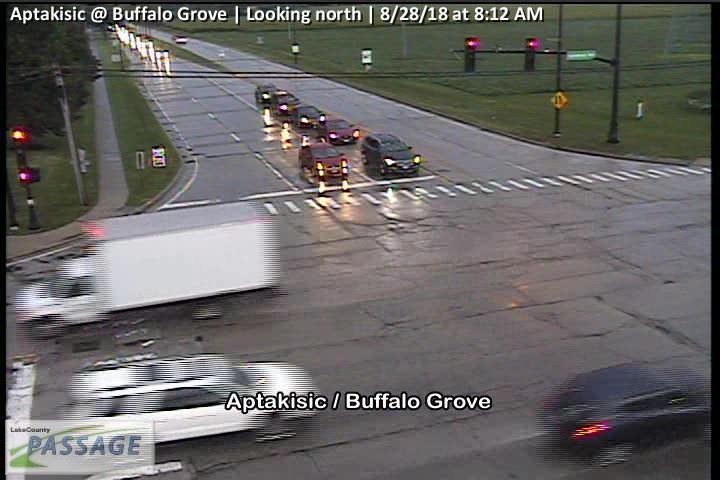SUV: (70, 355, 322, 444), (540, 363, 711, 467), (360, 133, 421, 177)
Sedan: (299, 142, 348, 180), (321, 119, 360, 144), (269, 91, 300, 117), (293, 106, 325, 131), (256, 84, 277, 108), (173, 35, 187, 43)
Truck: (12, 200, 278, 334)
